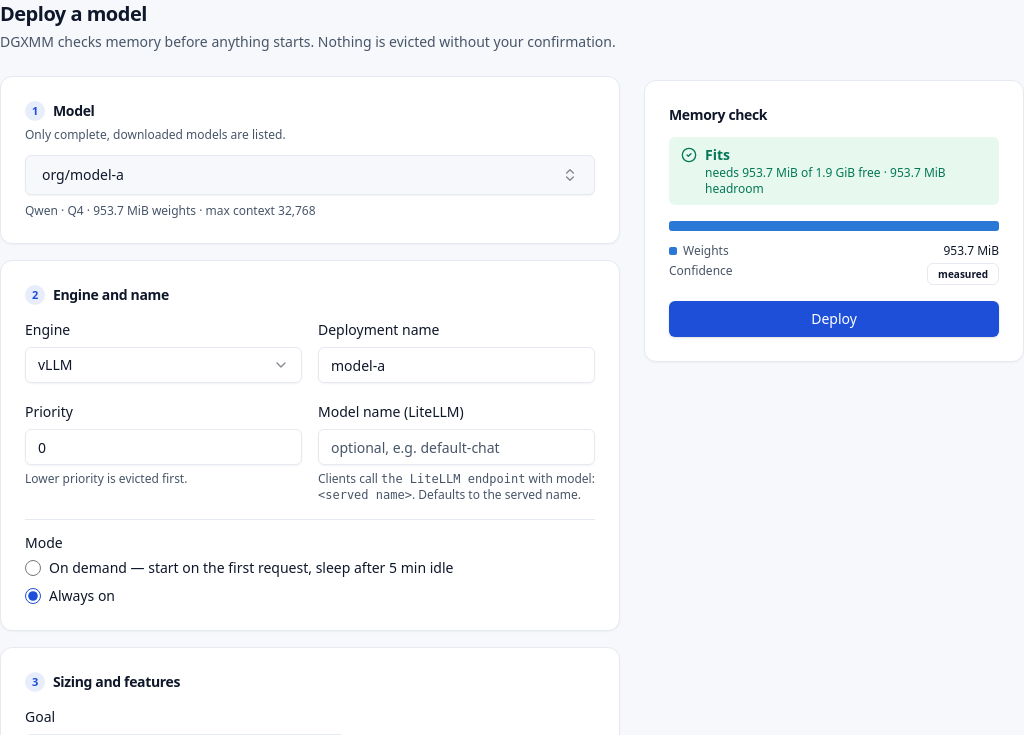
Scenario: DeployWizard › re-plans after an insufficient_memory 409 without looping, and a chosen plan sticks
Expected: the text "Fits" is shown, left=705, top=145, right=730, bottom=164
Click the button "Deploy" at (834, 319), box left=669, top=301, right=999, bottom=337
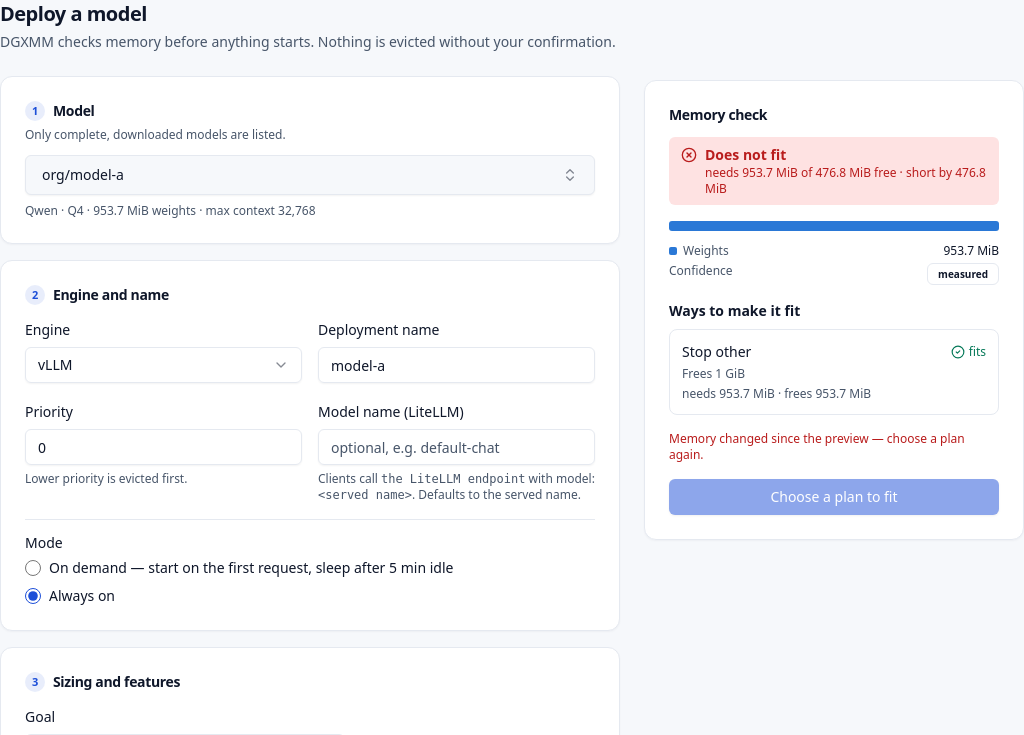
Expected: the radio button labelled "Stop other" is shown
Click the radio button labelled "Stop other" at (717, 352), box left=669, top=329, right=999, bottom=415
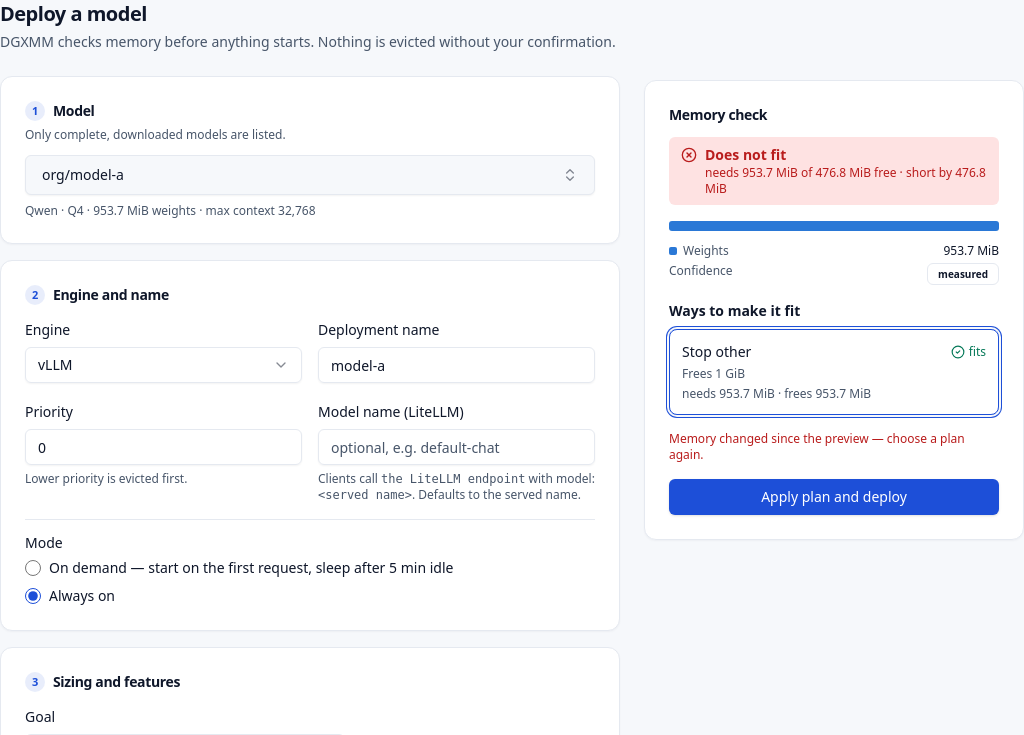
Expected: the button "Apply plan and deploy" is enabled, left=669, top=479, right=999, bottom=515
